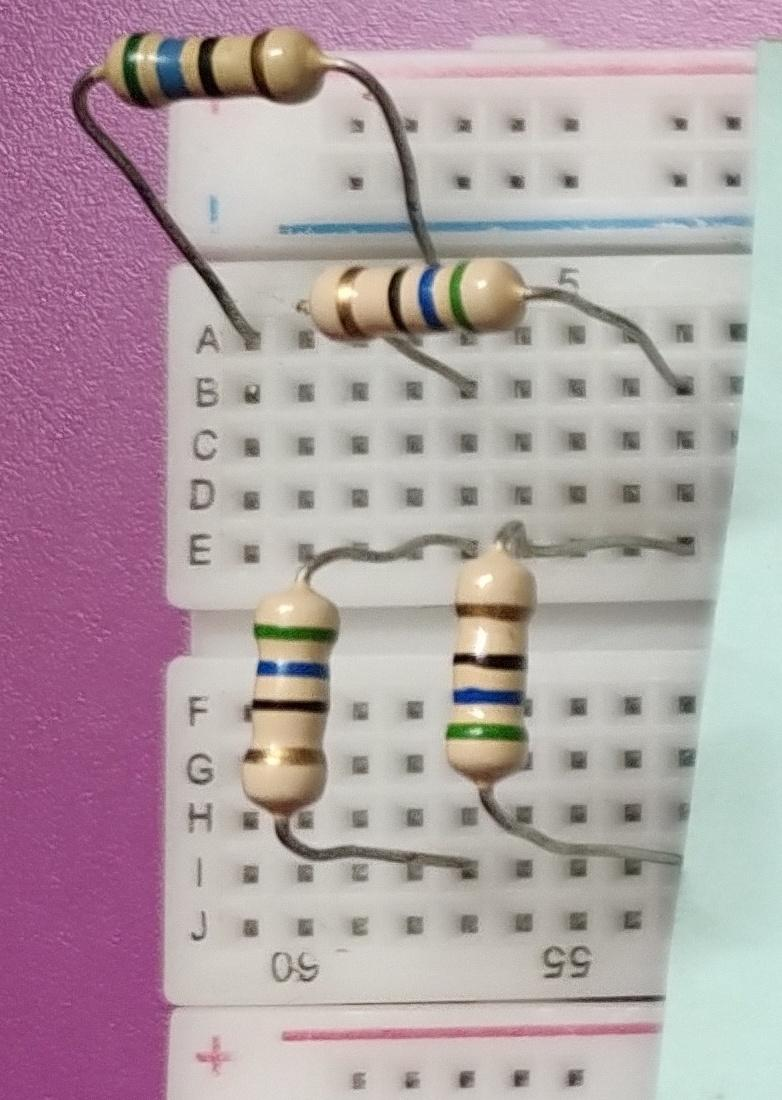resistor: (221, 571, 341, 836), (441, 545, 540, 792), (297, 247, 549, 342), (97, 25, 341, 107)
